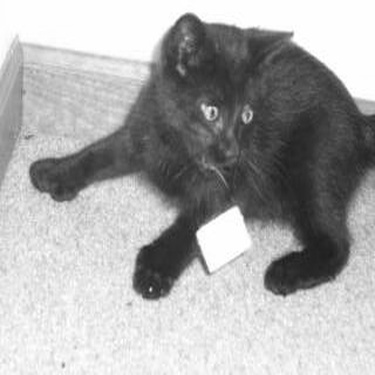cat: (9, 11, 373, 298)
